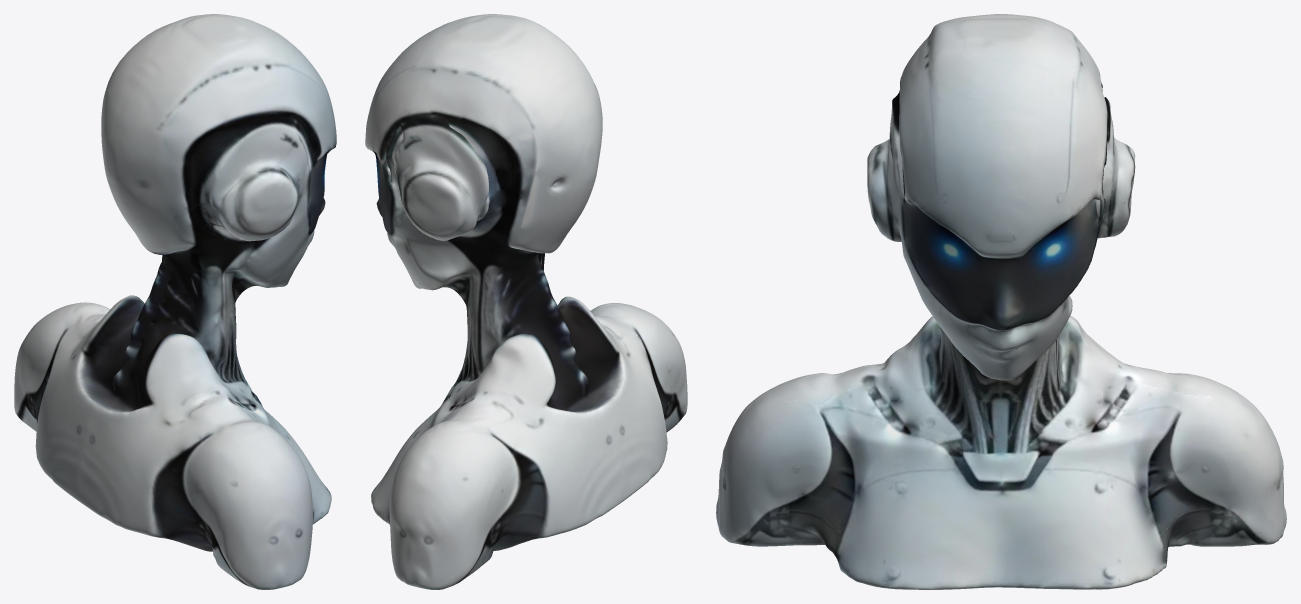
The model's file is robot-model.glb.
3 views of the same model, side by side, from view 1: azimuth 30°, elevation 25°; view 2: azimuth 150°, elevation 25°; view 3: azimuth 270°, elevation 25° (orthographic). The views are drawn at different scales.
Parts seen in each view (by area): view 1: tripo_node_50beeccb-b28b-4203-9e5e-a22c152c23dc; view 2: tripo_node_50beeccb-b28b-4203-9e5e-a22c152c23dc; view 3: tripo_node_50beeccb-b28b-4203-9e5e-a22c152c23dc.
Part boxes in pixels (<box>): tripo_node_50beeccb-b28b-4203-9e5e-a22c152c23dc: <box>14,14,336,589</box>; tripo_node_50beeccb-b28b-4203-9e5e-a22c152c23dc: <box>365,14,687,589</box>; tripo_node_50beeccb-b28b-4203-9e5e-a22c152c23dc: <box>716,14,1286,589</box>.
Size of the model in its own units: 0.4086 by 0.7181 by 0.6975.
Materials: 1 (1 with a texture image).
